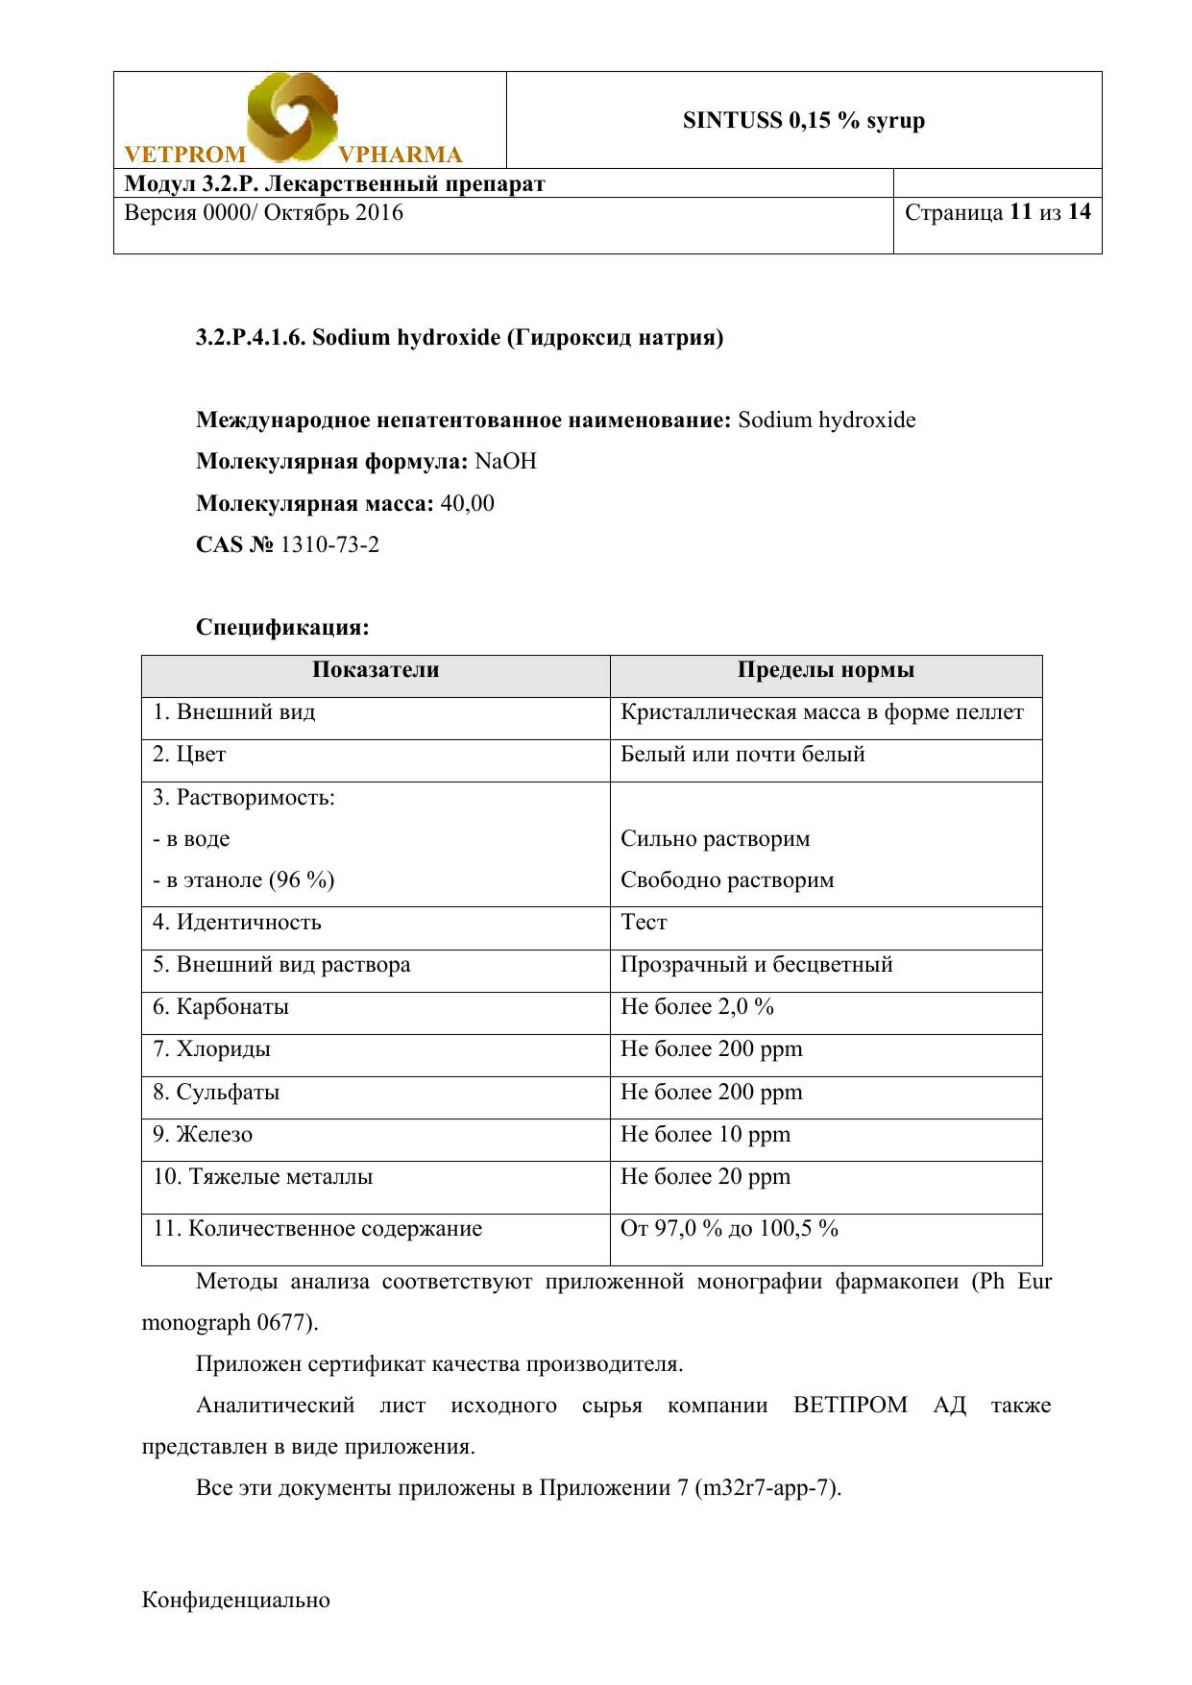full_lined: (141, 653, 1044, 1268)
merged_cells: (112, 70, 1104, 255)
